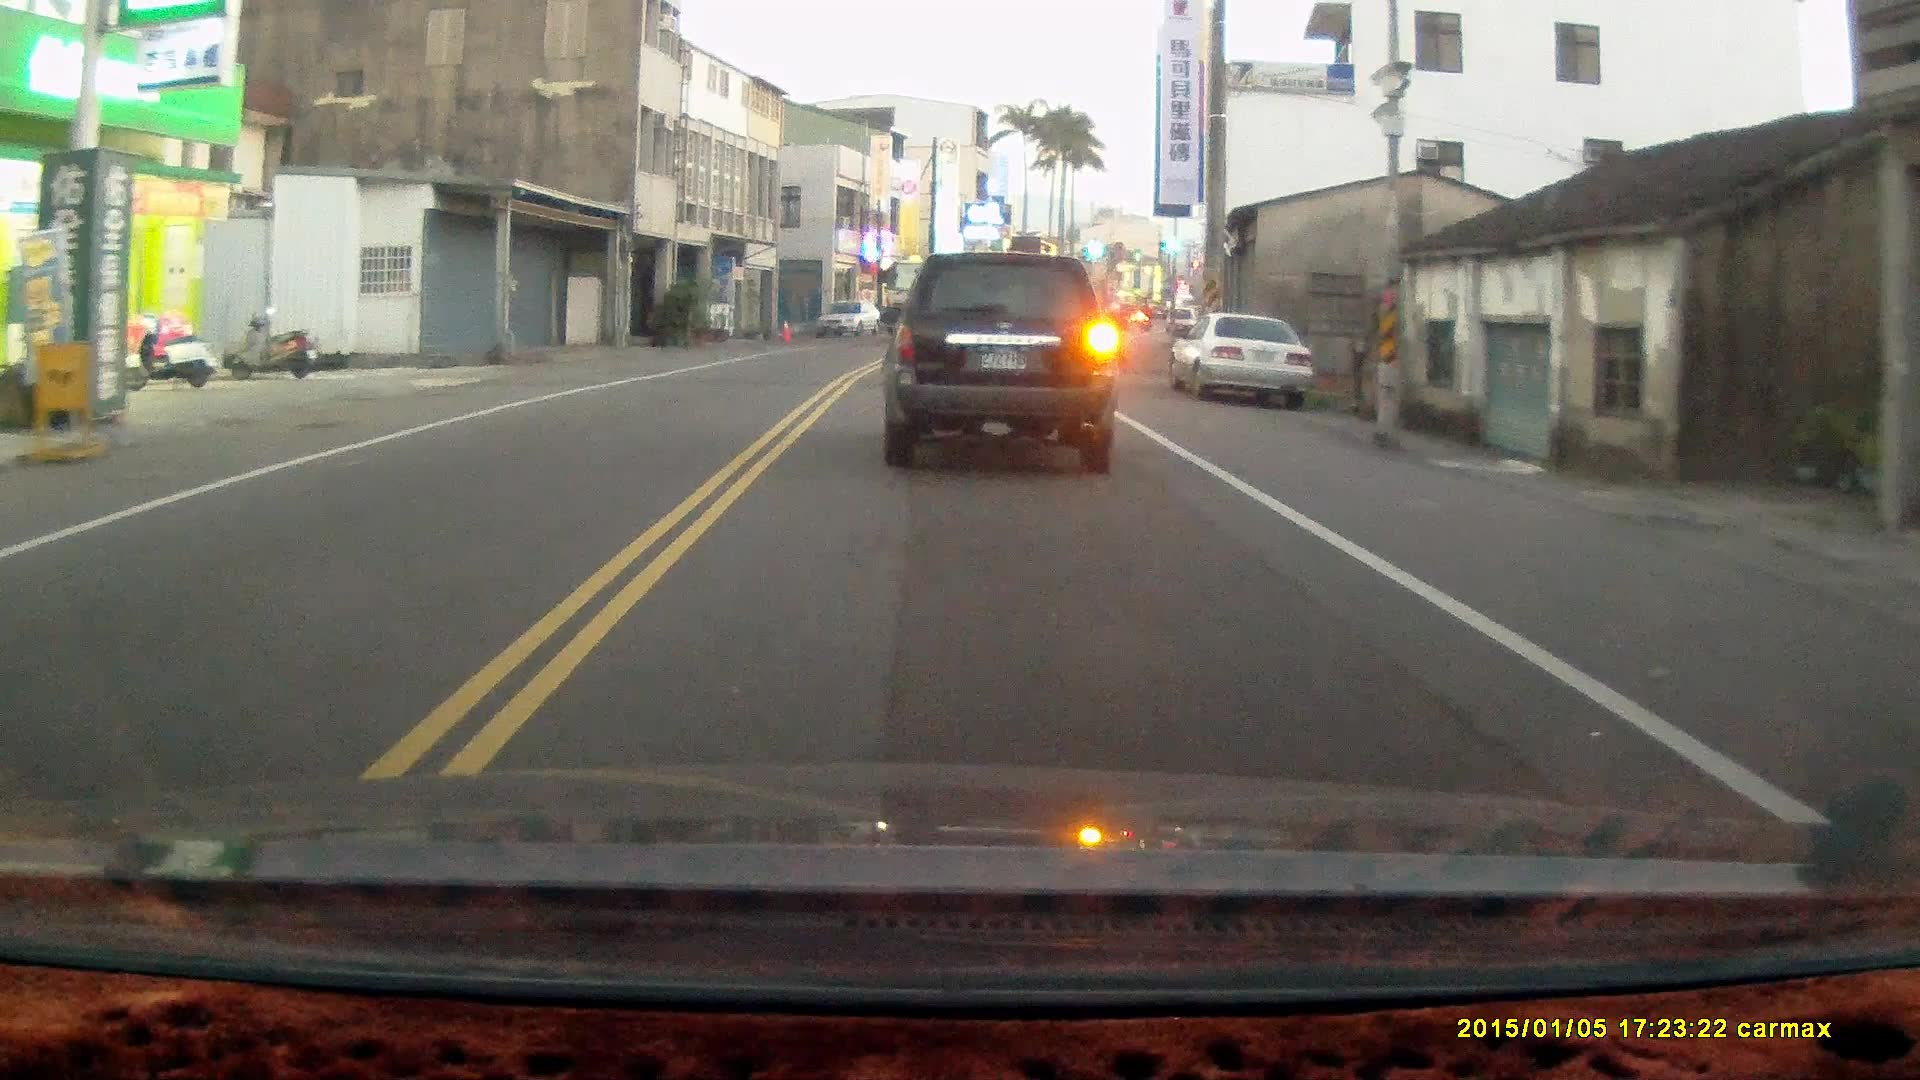rider: (1101, 298, 1131, 371)
vehicle: (881, 248, 1122, 477), (1172, 310, 1315, 402), (817, 298, 882, 344)
